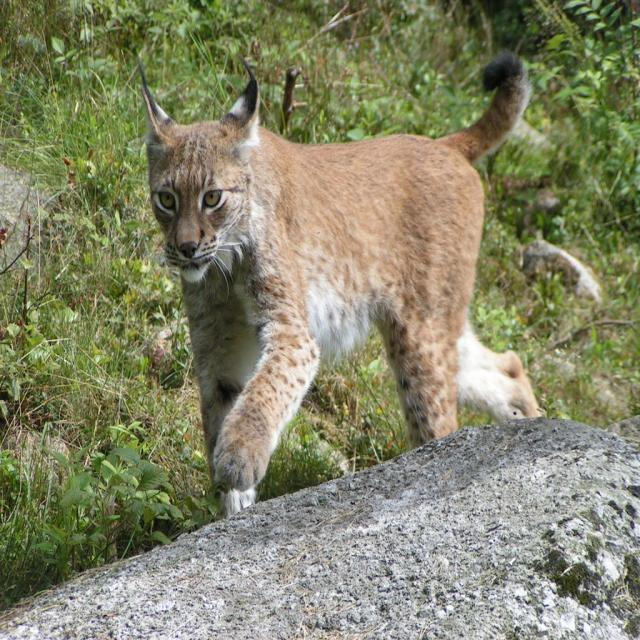Cat: (135, 52, 542, 516)
